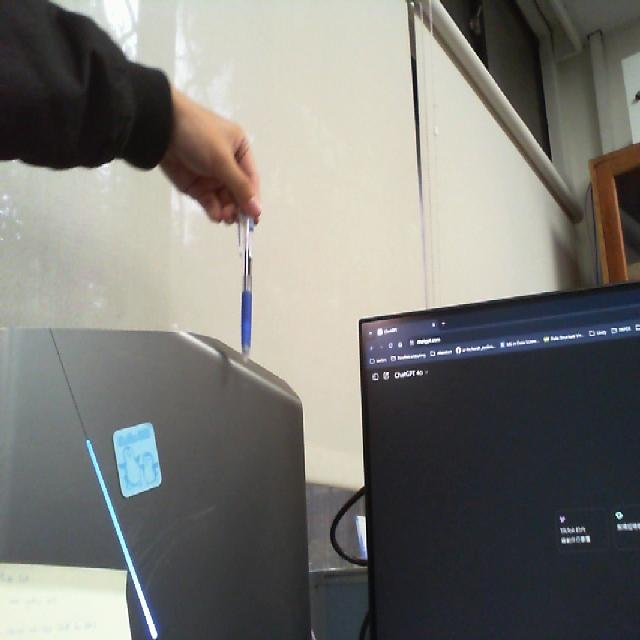Pen: (229, 168, 265, 374)
